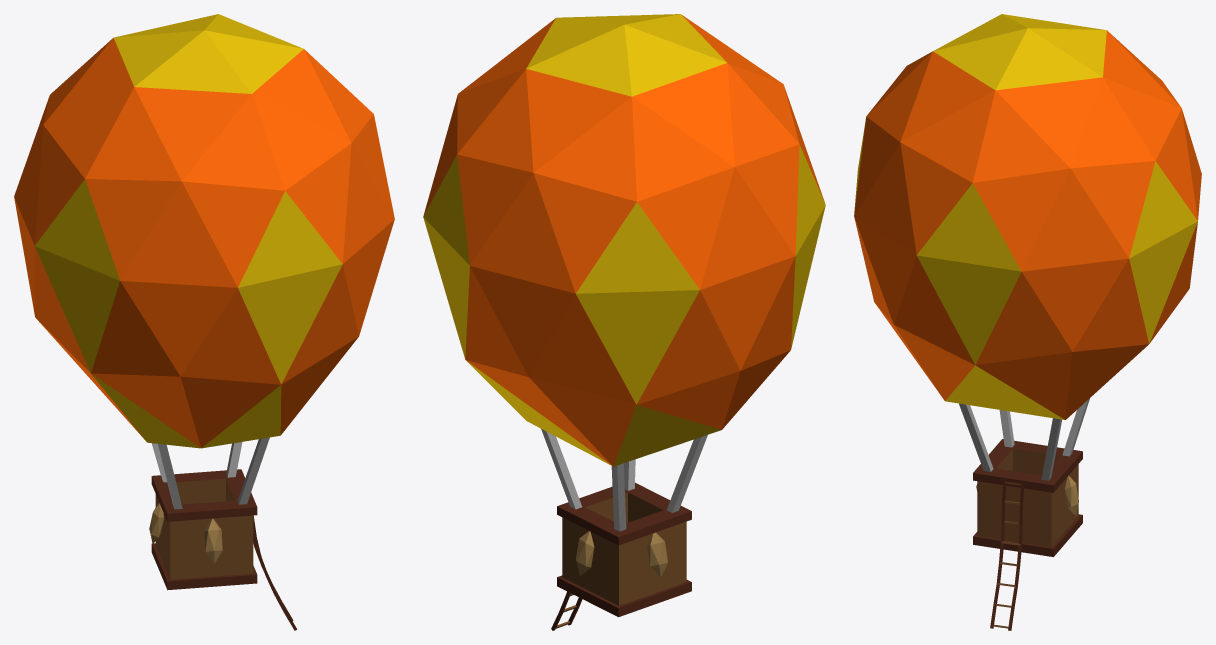
The model's file is balloon00.gltf.
3 views of the same model, side by side, from view 1: azimuth 30°, elevation 25°; view 2: azimuth 150°, elevation 25°; view 3: azimuth 270°, elevation 25° (orthographic). The views are drawn at different scales.
Parts seen in each view (by area): view 1: balloon00; view 2: balloon00; view 3: balloon00.
Part boxes in pixels (box(x1,y1,x2,y2)): balloon00: box(14, 14, 394, 630); balloon00: box(423, 14, 825, 630); balloon00: box(854, 14, 1201, 630).
Bounding box in the file's own units: 2 × 3.46 × 1.92.
